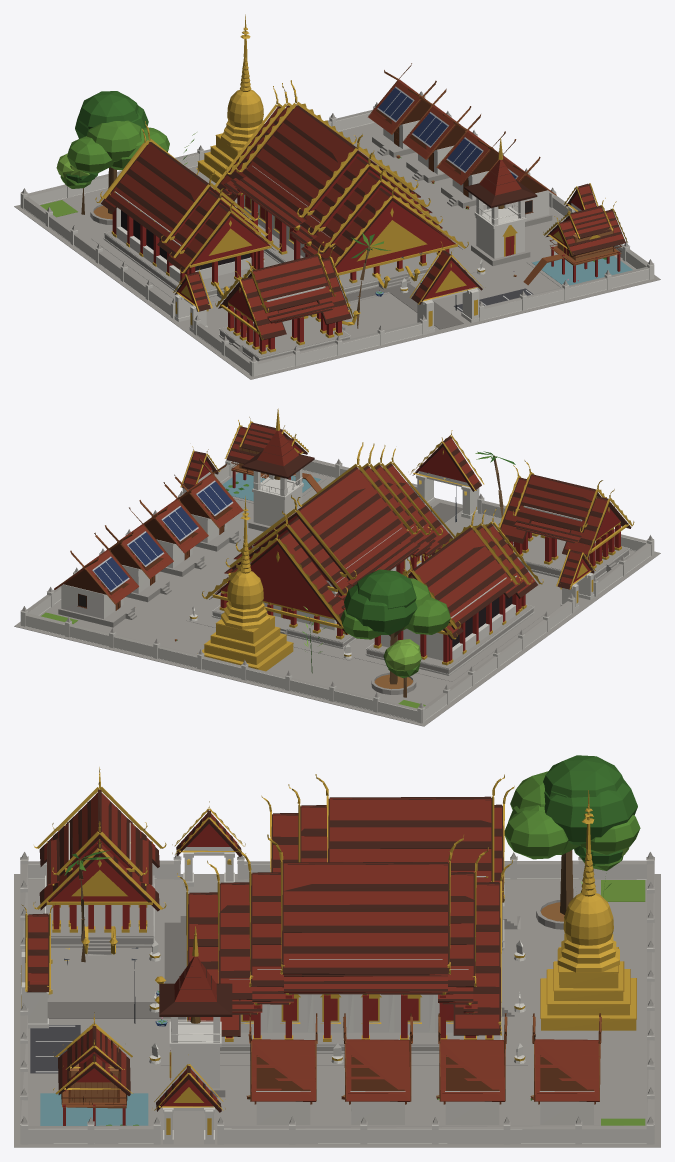
The model's file is temple_3.glb.
3 views of the same model, one above another, from view 1: azimuth 30°, elevation 25°; view 2: azimuth 150°, elevation 25°; view 3: azimuth 270°, elevation 25° (orthographic). The views are drawn at different scales.
Parts seen in each view (by area): view 1: body; view 2: body; view 3: body.
Boxes of the visible parts, left/top/right/bottom form: body: left=14, top=14, right=660, bottom=379; body: left=14, top=408, right=660, bottom=726; body: left=14, top=755, right=660, bottom=1147.
Size of the model in its own units: 47.9 by 18.35 by 47.9.
